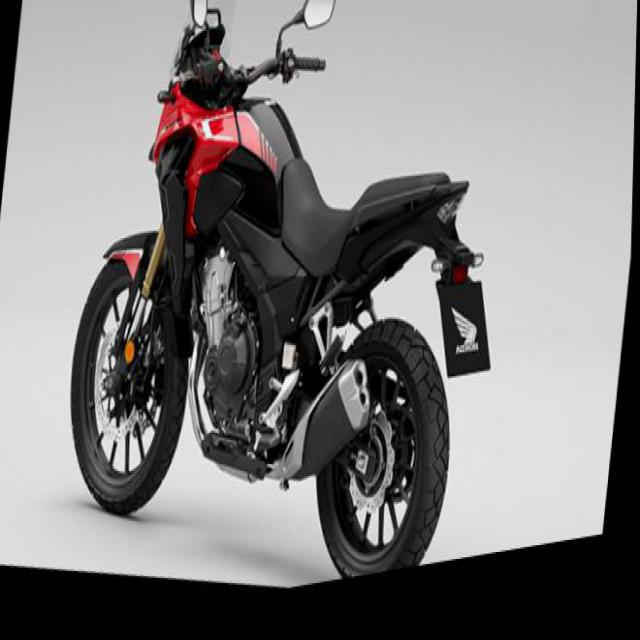CB500X: (50, 0, 548, 630)
